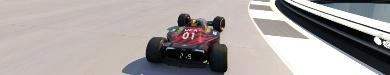Car: (145, 13, 228, 71)
Solid White and black: (246, 0, 389, 74)
